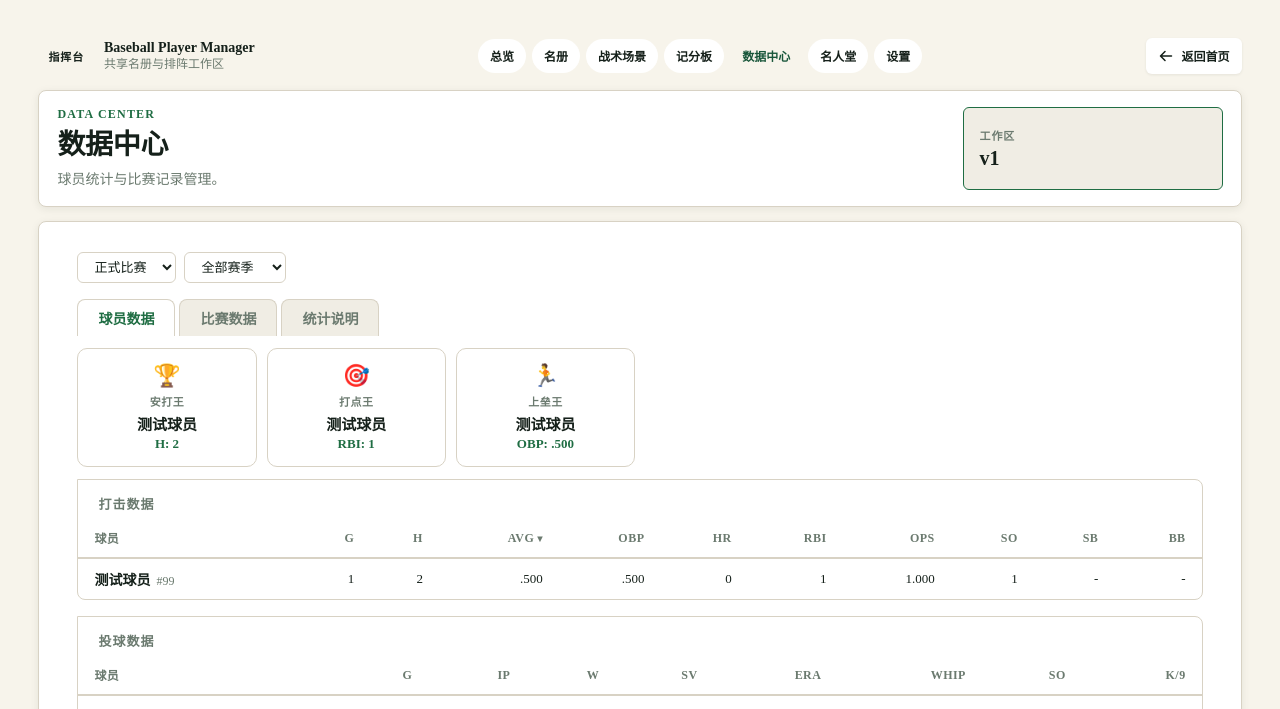
Test: StatsPageClient save lock & rollback › on save failure with reload failure: shows unreachable message
The image size is (1280, 709).
Click the button "比赛数据": (228, 318) 179,299 -> 277,336
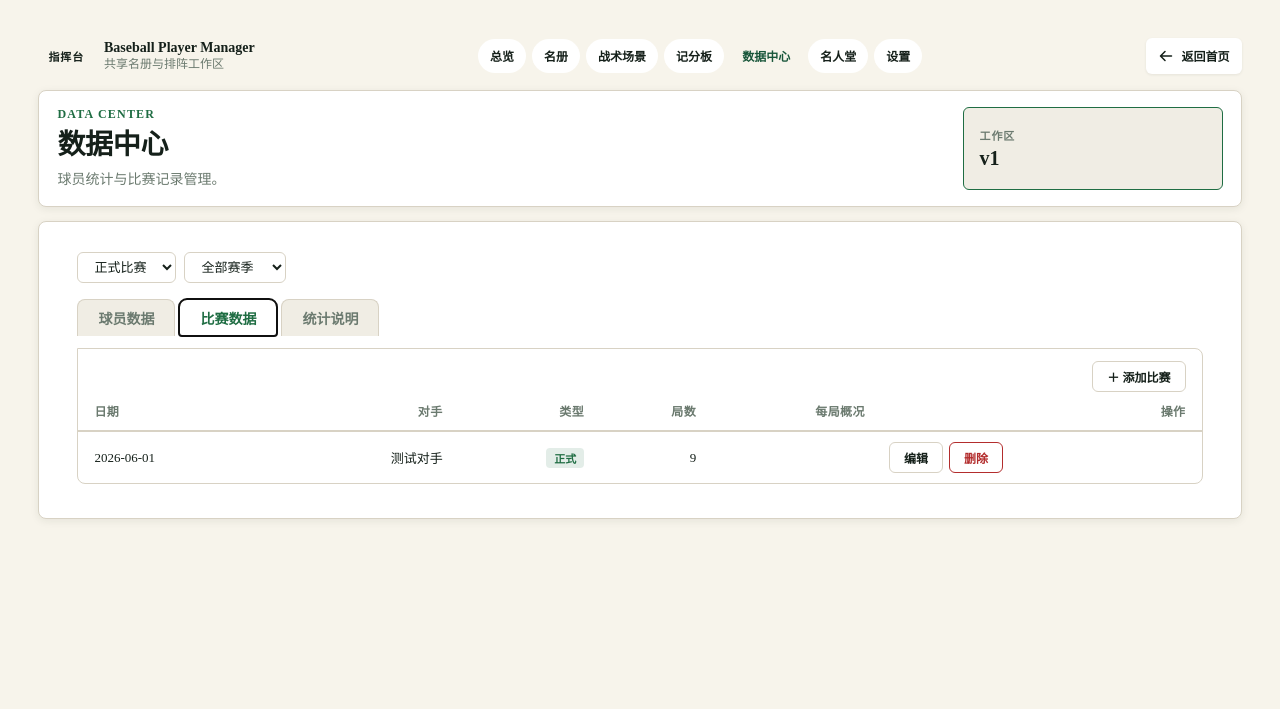
Click the button "删除": (976, 458) 949,442 -> 1003,473
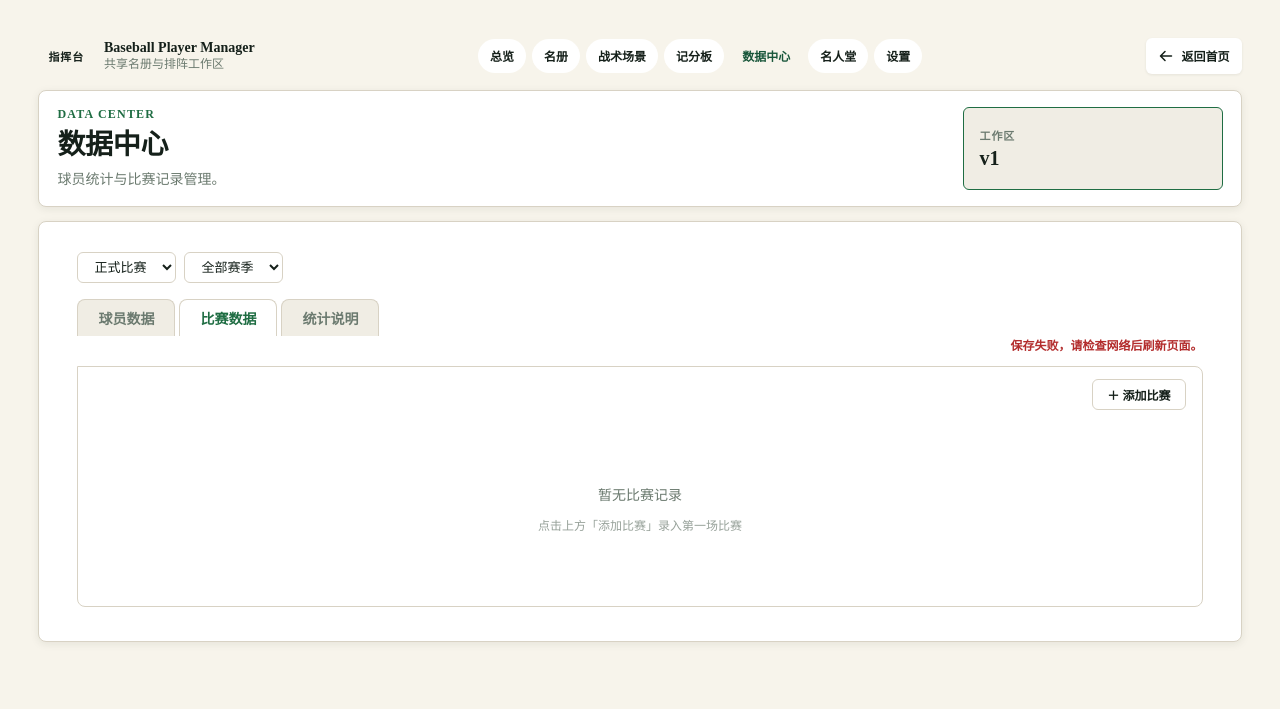
Expected: the text "保存失败，请检查网络后刷新页面。" is shown, 1011,336 -> 1203,354
